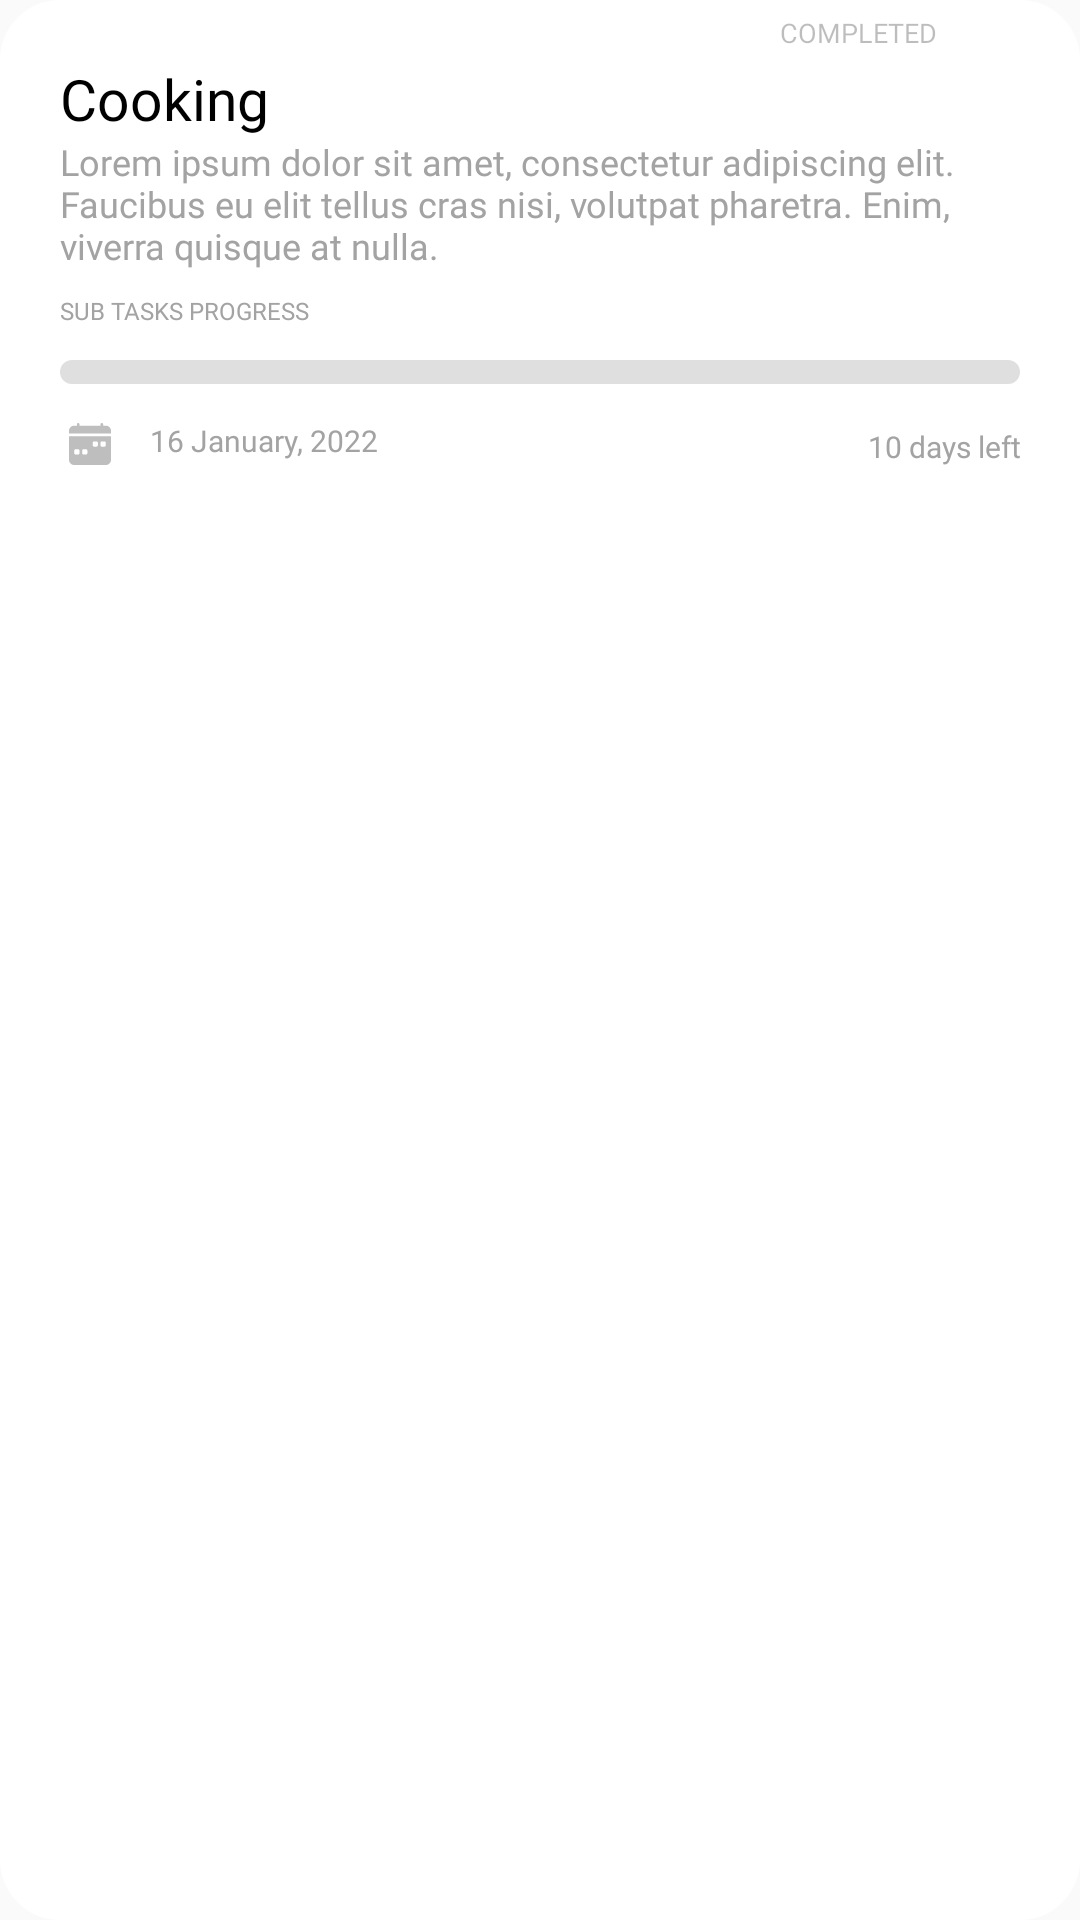

Where icons sit on this 1080px x 1920px app screen, as [left=x1, top=y1, right=x2, bottom=y2]:
calendar: [left=69, top=423, right=111, bottom=465]
